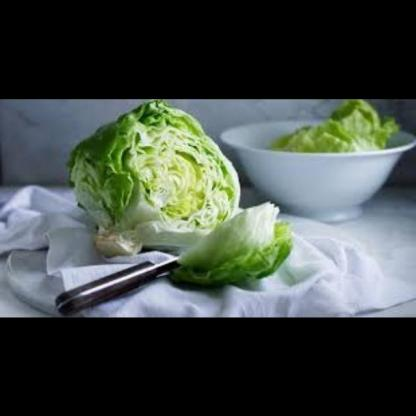salad: (65, 98, 243, 258), (172, 198, 292, 294), (274, 99, 405, 157)
